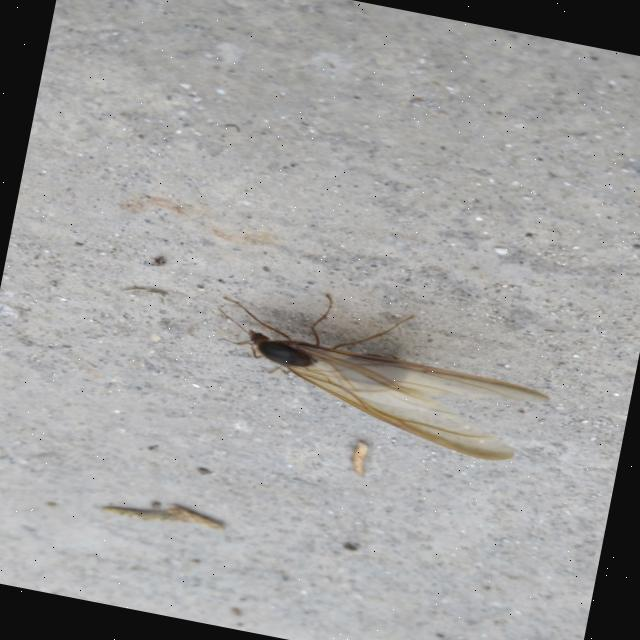Alive-Male-Alate: (199, 274, 562, 470)
